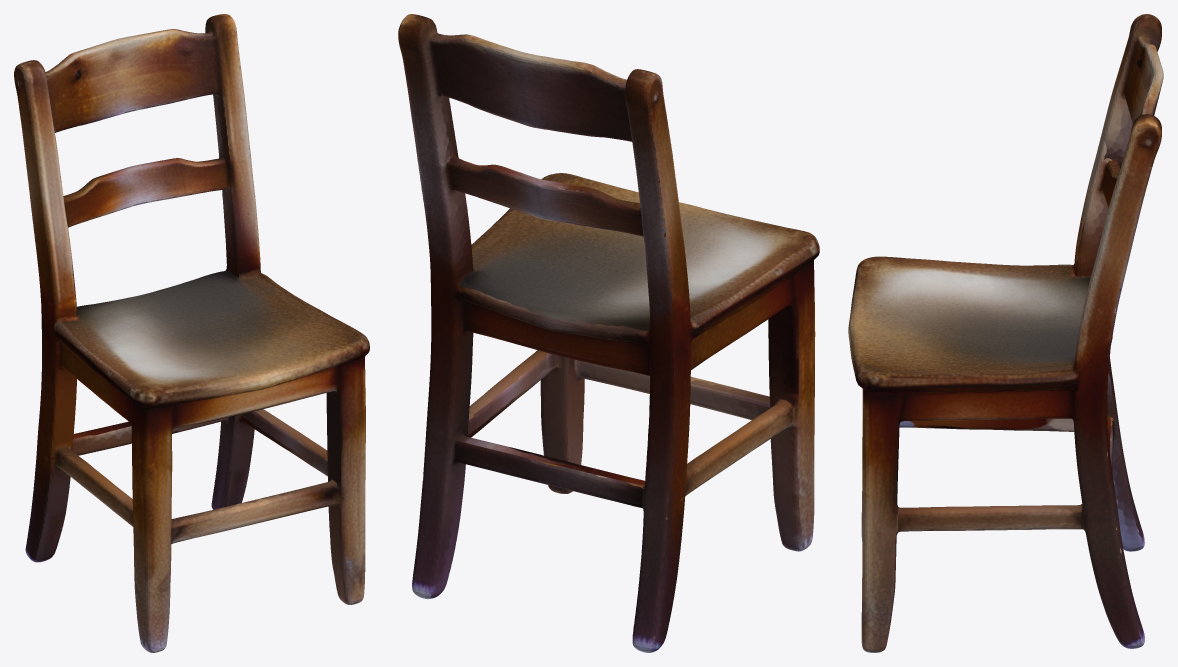
File: mdl_chair_001.glb
The picture shows the model from 3 angles, left to right: view 1: azimuth 30°, elevation 25°; view 2: azimuth 150°, elevation 25°; view 3: azimuth 270°, elevation 25°; orthographic projection. The views are drawn at different scales.
Visible parts, largest first — view 1: tmp4fo9xwao.ply; view 2: tmp4fo9xwao.ply; view 3: tmp4fo9xwao.ply.
Boxes of the visible parts, x1,y1,x2,y2 form: tmp4fo9xwao.ply: [14, 14, 369, 652]; tmp4fo9xwao.ply: [398, 14, 819, 652]; tmp4fo9xwao.ply: [848, 14, 1163, 652].
Bounding box in the file's own units: 0.4905 × 0.9904 × 0.5322.
Materials: 1 (1 with a texture image).
